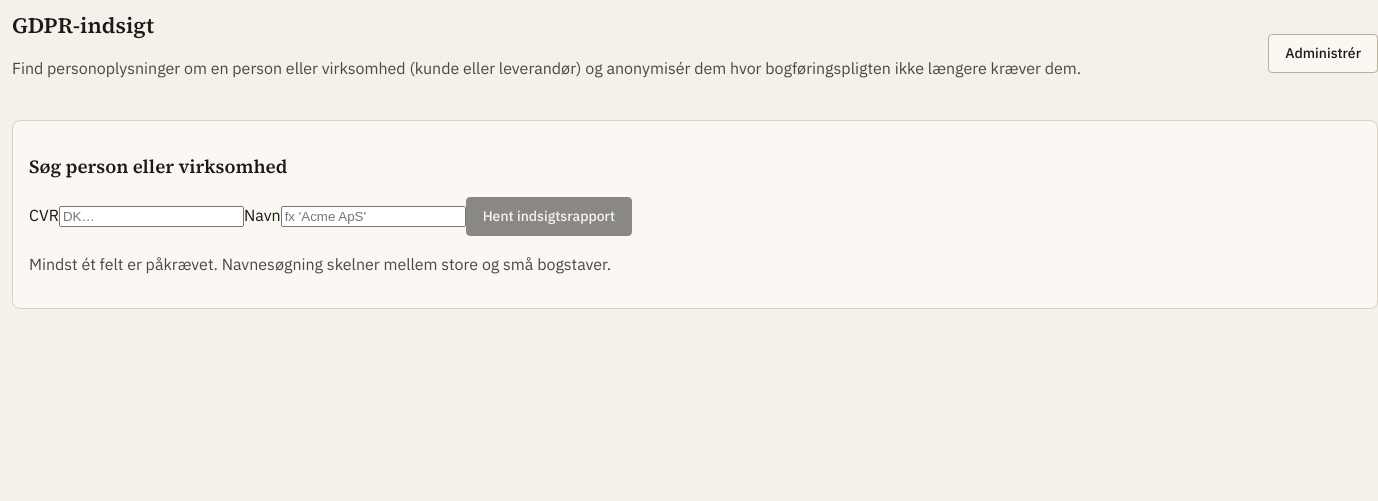
GdprView (#334) › søgning udfylder indsigtsrapport-panelet
This screenshot has width=1378, height=501.
Type "DK99999999" into the field with placeholder "DK…" at (151,217), box 59,206 -> 244,227
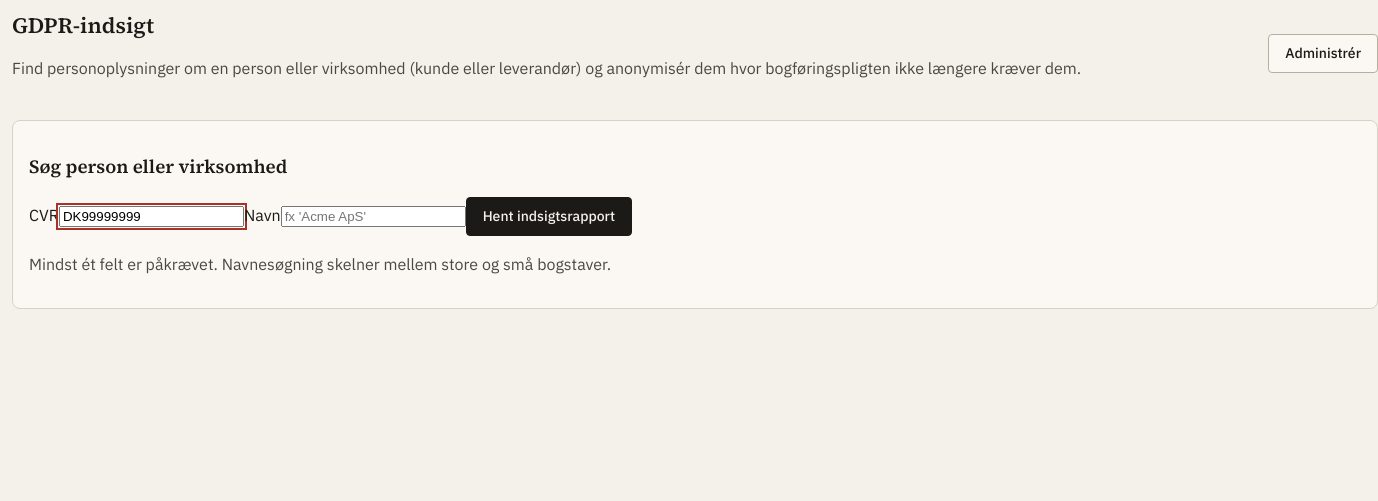
Click the button "Hent indsigtsrapport" at (549,217), box 466,197 -> 632,236
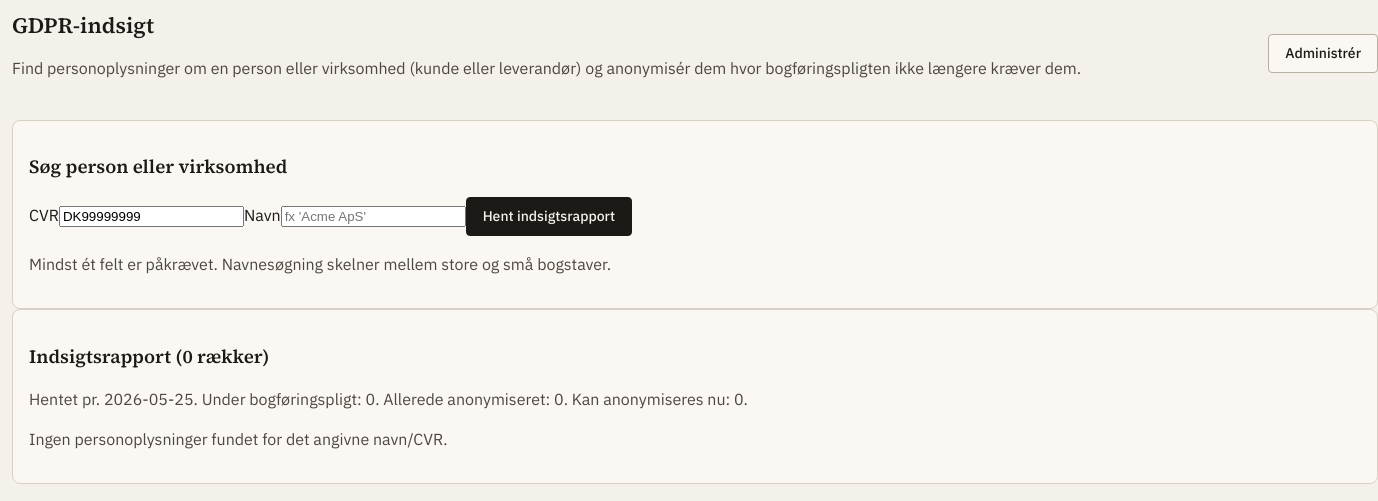
Expected: the text "Ingen personoplysninger fundet for det angivne navn/CVR." is shown, 29,429 -> 448,449
